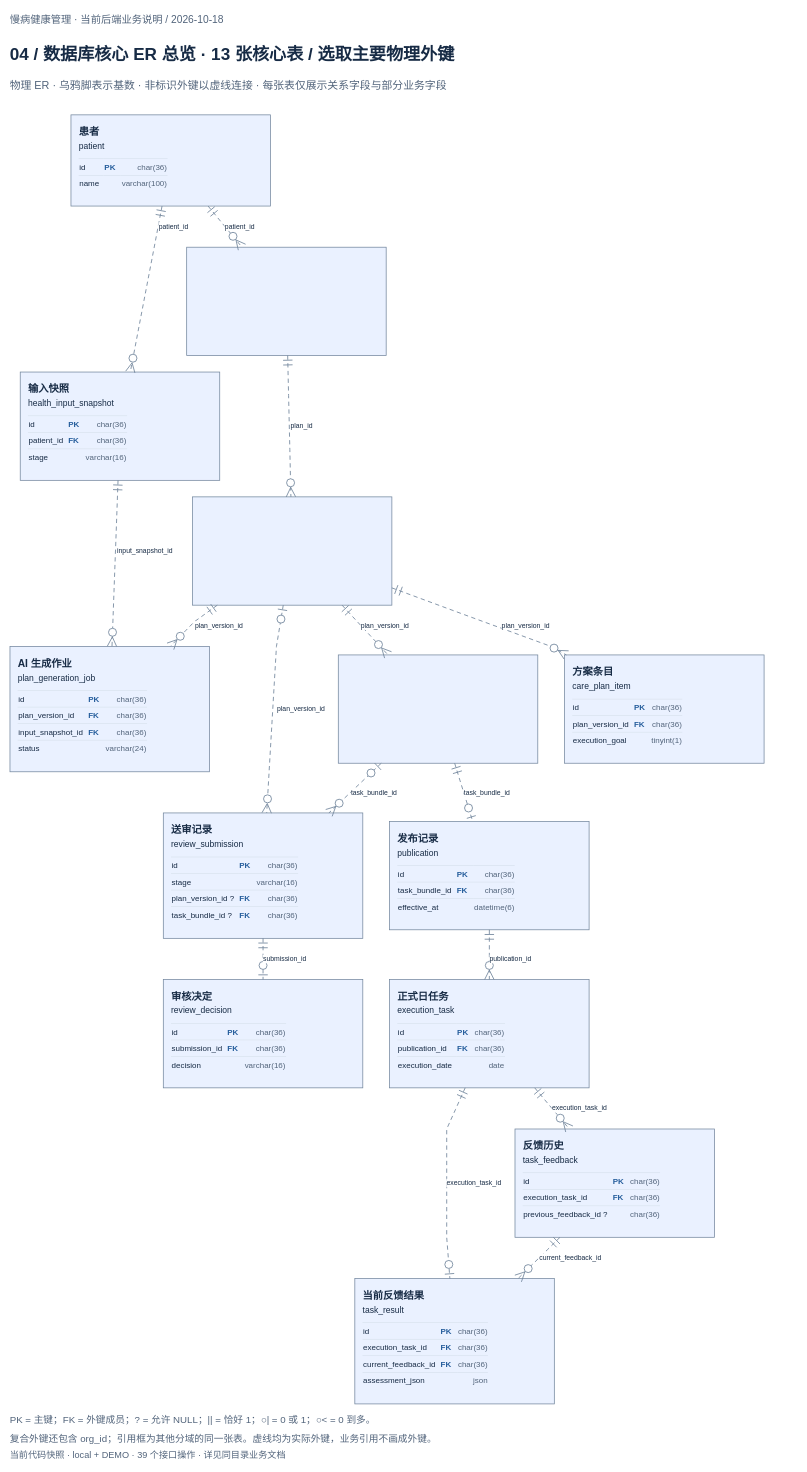
Image size: 807x1472. Some labels were removed from this diagram. Here are the shapes that lost their labels. From the top down, the centre of each, then its label:
At point (286, 301): "方案家族 care_plan id PK char(36) patient_id FK char(36) plan_no varchar(64)".
At point (292, 550): "方案版本 care_plan_version id PK char(36) plan_id FK char(36) version_no int".
At point (438, 708): "任务包版本 task_bundle id PK char(36) plan_version_id FK char(36) version_no int".
